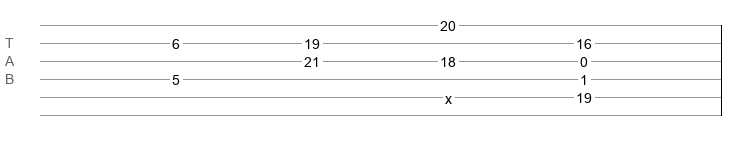0: (580, 54, 588, 64)
1: (580, 72, 588, 82)
16: (576, 36, 592, 46)
18: (440, 54, 456, 64)
19: (304, 36, 320, 46), (576, 90, 592, 100)
20: (440, 18, 456, 28)
21: (304, 54, 320, 64)
5: (172, 72, 180, 82)
6: (172, 36, 180, 46)
x: (445, 91, 452, 99)
